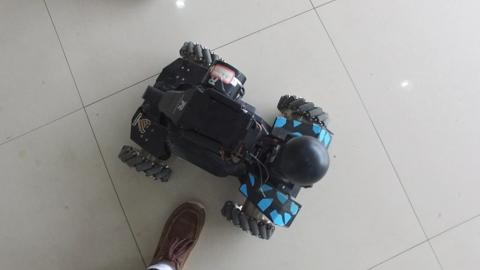chariot: (98, 22, 337, 231)
